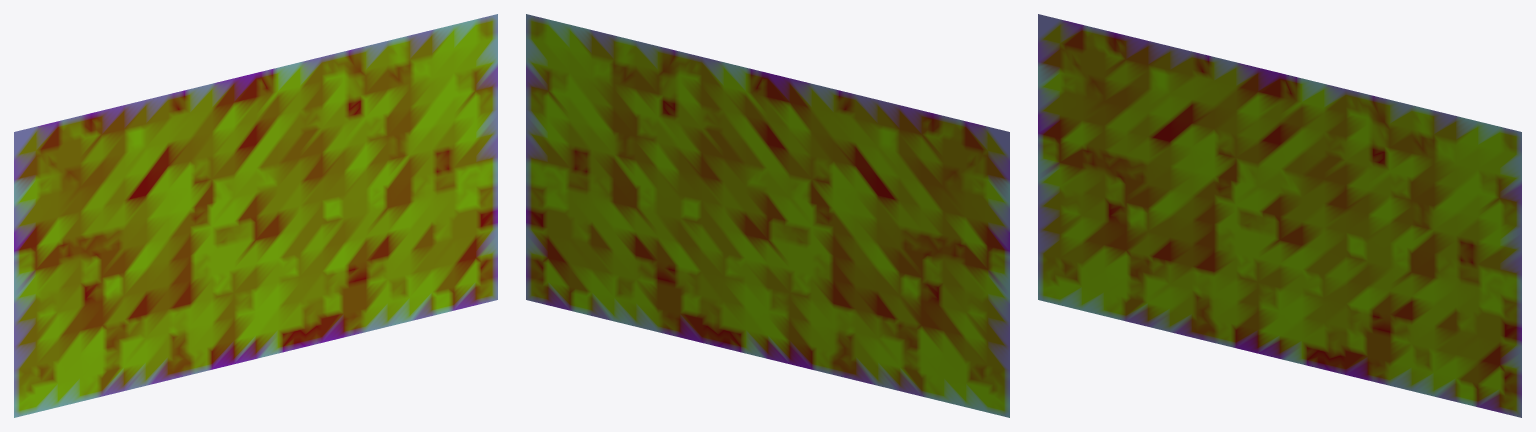
Rendered from videoPlaneFused.glb.
3 renders of one model, left to right at view 1: azimuth 30°, elevation 25°; view 2: azimuth 150°, elevation 25°; view 3: azimuth 330°, elevation 25°, orthographic.
Parts seen in each view (by area): view 1: geo1; view 2: geo1; view 3: geo1.
Part boxes in pixels (x1,y1,x2,y2): geo1: [14, 14, 497, 417]; geo1: [526, 14, 1009, 417]; geo1: [1038, 14, 1521, 417].
Size of the model in its own units: 1.77 by 1 by 0.
